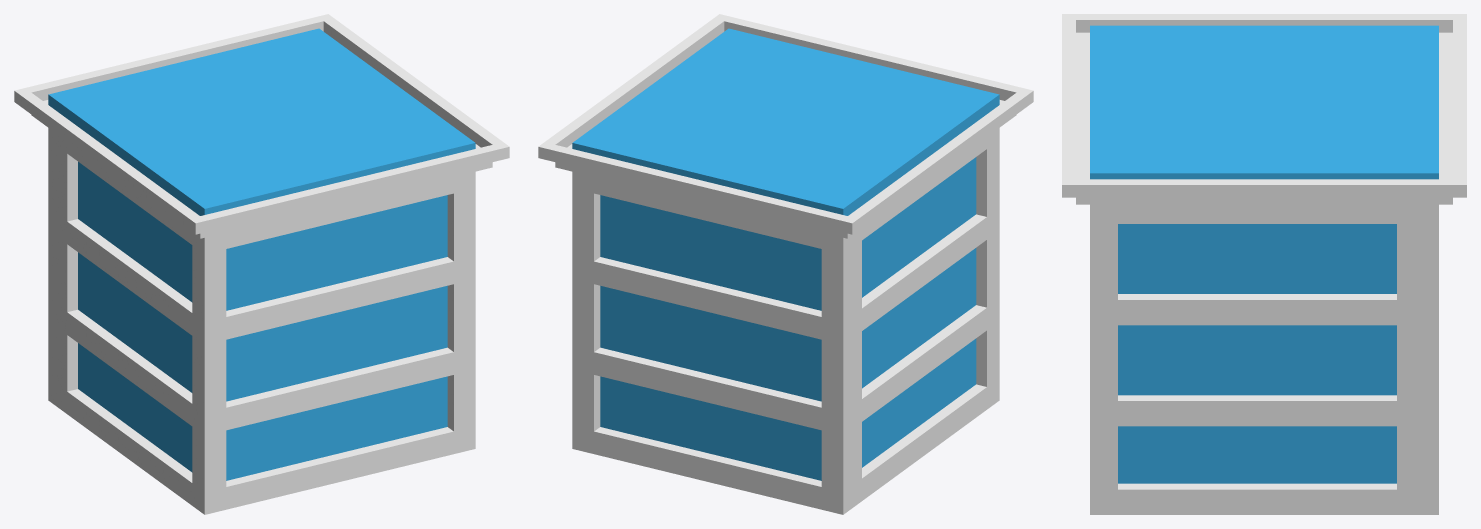
File: seventhModel.fbx
The picture shows the model from 3 angles, left to right: view 1: azimuth 30°, elevation 25°; view 2: azimuth 150°, elevation 25°; view 3: azimuth 270°, elevation 25°; orthographic projection. The views are drawn at different scales.
Parts seen in each view (by area): view 1: Box; view 2: Box; view 3: Box.
Boxes of the visible parts, x1,y1,x2,y2 form: Box: (14,14,509,514); Box: (538,14,1033,514); Box: (1062,14,1466,514).
Size of the model in its own units: 29 by 27 by 29.
Materials: 1 (1 with a texture image).
